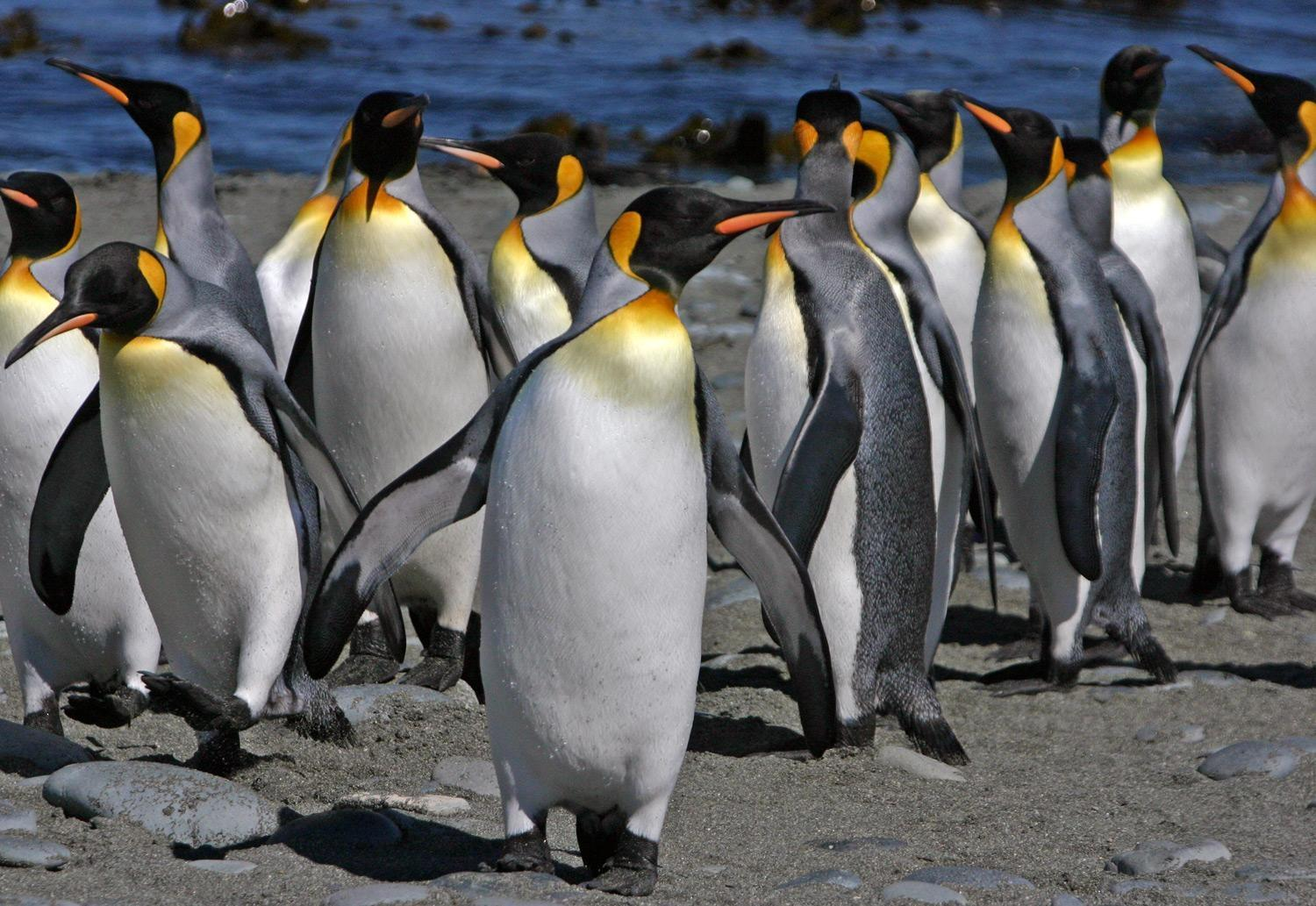Penguin: (306, 188, 835, 894), (8, 241, 357, 771), (743, 90, 966, 760), (956, 92, 1177, 685), (288, 90, 513, 503), (0, 172, 159, 731), (1177, 46, 1315, 617), (853, 122, 995, 667), (49, 59, 275, 356), (1063, 121, 1183, 591), (1100, 46, 1226, 399), (421, 133, 601, 358), (861, 88, 987, 405), (258, 124, 347, 365), (393, 514, 483, 689), (331, 581, 404, 688)
